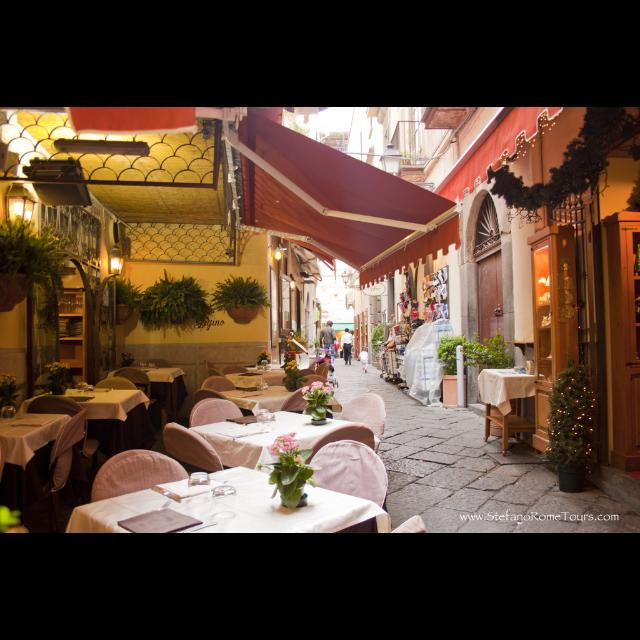Flower: (270, 432, 302, 462), (301, 380, 337, 398), (282, 446, 290, 456), (272, 452, 278, 458)
